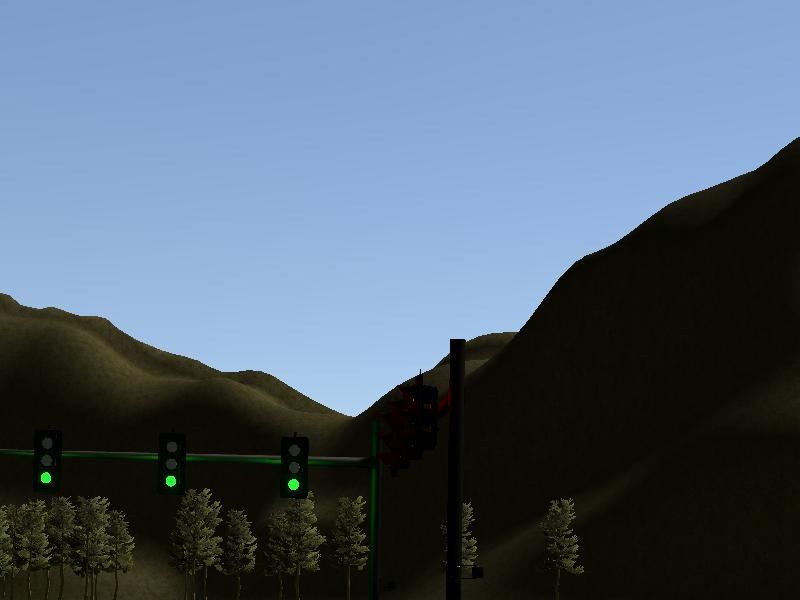Green: (279, 435, 310, 500), (157, 431, 187, 498), (33, 430, 62, 493)
